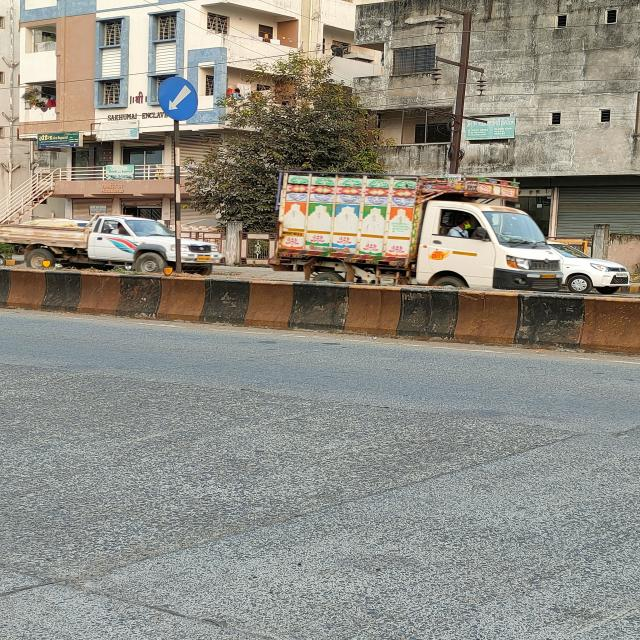compulsory_cycle_track: (153, 75, 204, 123)
